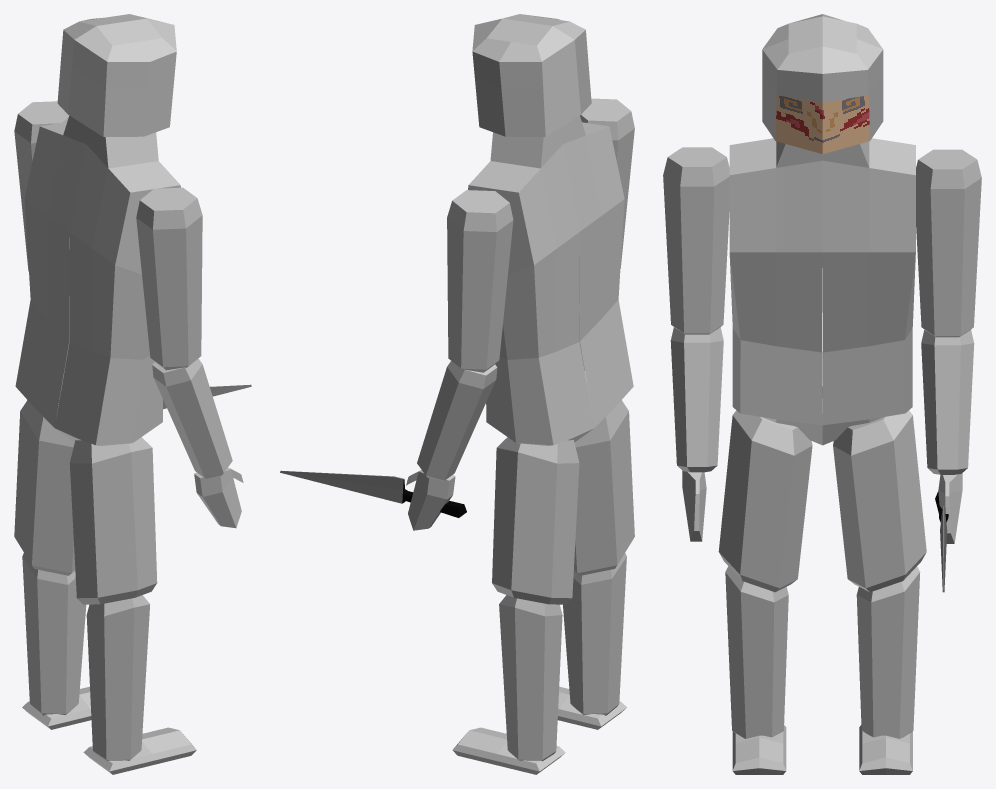
Rendered from characterCRY2.fbx.
3 views of the same model, side by side, from view 1: azimuth 30°, elevation 25°; view 2: azimuth 150°, elevation 25°; view 3: azimuth 270°, elevation 25° (orthographic). The views are drawn at different scales.
Parts seen in each view (by area): view 1: Cube; view 2: Cube, Cube.001; view 3: Cube, Cube.001.
Boxes of the visible parts, left/top/right/bottom form: Cube: left=14, top=14, right=243, bottom=774; Cube: left=406, top=14, right=634, bottom=774; Cube.001: left=280, top=470, right=466, bottom=517; Cube: left=663, top=14, right=981, bottom=774; Cube.001: left=935, top=491, right=948, bottom=592.
Bounding box in the file's own units: 326 × 867 × 342.
